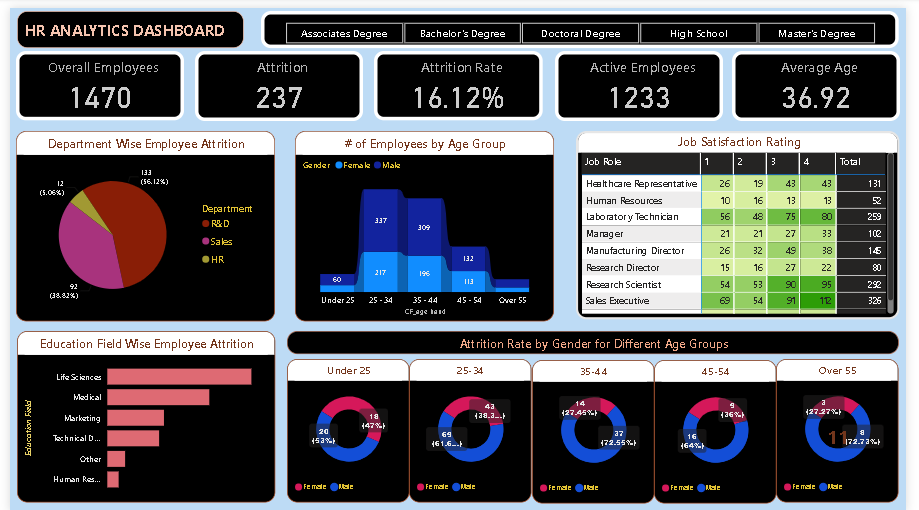

This screenshot's page, from the dashboard's own definition file:
{"tool":"powerbi","page":{"name":"HR Analytics Dashboard","canvas":[1280,720],"ordinal":0},"visuals":[{"type":"card","title":"Overall Employees","fields":{"Values":["Sum(HR data.Employee Count)"]},"box":[8.3,61.5,239.9,99.1],"z":0},{"type":"card","title":"Attrition ","fields":{"Values":["Sum(HR data.Attrition Count)"]},"box":[264.9,61.5,239.9,100.1],"z":1000},{"type":"card","title":"Attrition Rate","fields":{"Values":["HR data.Attrition Rate"]},"box":[520.4,61.5,240.9,99.1],"z":2000},{"type":"card","title":"Active Employees","fields":{"Values":["HR data.Active employees"]},"box":[778,61.5,239.9,100.1],"z":3000},{"type":"card","title":"Average Age","fields":{"Values":["Avg(HR data.Age)"]},"box":[1031.4,61.5,239.9,100.1],"z":4000},{"type":"pieChart","title":"Department Wise Employee Attrition","fields":{"Category":["HR data.Department"],"Y":["Sum(HR data.Attrition Count)"]},"box":[8.4,175.8,370.2,272.1],"z":5000},{"type":"columnChart","title":"# of Employees by Age Group","fields":{"Category":["HR data.CF_age band"],"Y":["Sum(HR data.Employee Count)"],"Series":["HR data.Gender"]},"box":[407.6,175.8,370.2,272.1],"z":6000},{"type":"pivotTable","title":"Job Satisfaction Rating","fields":{"Rows":["HR data.Job Role"],"Columns":["HR data.Job Satisfaction"],"Values":["Sum(HR data.Employee Count)"]},"box":[809,175.8,461.8,269],"z":7000},{"type":"barChart","title":"Education Field Wise Employee Attrition","fields":{"Category":["HR data.Education Field"],"Y":["Sum(HR data.Attrition Count)"]},"box":[9.3,461.8,369.3,244.9],"z":8000},{"type":"donutChart","title":"Under 25","fields":{"Category":["HR data.Gender"],"Y":["Sum(HR data.Attrition Count)"],"Series":["HR data.CF_age band"]},"box":[395.5,502,174.8,204.7],"z":9000},{"type":"textbox","title":"Attrition Rate by Gender for Different Age Groups","box":[395.5,461.8,874.1,32.7],"z":10000},{"type":"donutChart","title":"25-34","fields":{"Category":["HR data.Gender"],"Y":["Sum(HR data.Attrition Count)"],"Series":["HR data.CF_age band"]},"box":[570.3,502,174.8,204.7],"z":11000},{"type":"donutChart","title":"35-44","fields":{"Category":["HR data.Gender"],"Y":["Sum(HR data.Attrition Count)"],"Series":["HR data.CF_age band"]},"box":[745.1,503,174.8,204.7],"z":12000},{"type":"donutChart","title":"45-54","fields":{"Category":["HR data.Gender"],"Y":["Sum(HR data.Attrition Count)"],"Series":["HR data.CF_age band"]},"box":[919.9,503,174.8,204.7],"z":13000},{"type":"donutChart","title":"Over 55","fields":{"Category":["HR data.Gender"],"Y":["Sum(HR data.Attrition Count)"],"Series":["HR data.CF_age band"]},"box":[1094.8,502,174.8,204.7],"z":14000},{"type":"card","fields":{"Values":["Sum(HR data.Attrition Count)"]},"box":[1160.2,597.4,45.8,33.7],"z":19000},{"type":"textbox","box":[9.4,4.2,324.3,53.2],"z":20000},{"type":"slicer","fields":{"Values":["HR data.Education"]},"box":[358.7,4.2,911.4,53],"z":21000}]}

Visuals, with their boxes in screenshot pixels (x1, y1, x2, y2), scaled from the page's 1280x720 canvas onto the 919x510 screenshot:
"Overall Employees" card: 6 44 178 114
"Attrition " card: 190 44 362 114
"Attrition Rate" card: 374 44 547 114
"Active Employees" card: 559 44 731 114
"Average Age" card: 741 44 913 114
"Department Wise Employee Attrition" pieChart: 6 125 272 317
"# of Employees by Age Group" columnChart: 293 125 558 317
"Job Satisfaction Rating" pivotTable: 581 125 912 315
"Education Field Wise Employee Attrition" barChart: 7 327 272 501
"Under 25" donutChart: 284 356 409 501
"Attrition Rate by Gender for Different Age Groups" textbox: 284 327 912 350
"25-34" donutChart: 409 356 535 501
"35-44" donutChart: 535 356 660 501
"45-54" donutChart: 660 356 786 501
"Over 55" donutChart: 786 356 912 501
card - Sum(HR data.Attrition Count): 833 423 866 447
textbox: 7 3 240 41
slicer - HR data.Education: 258 3 912 41
